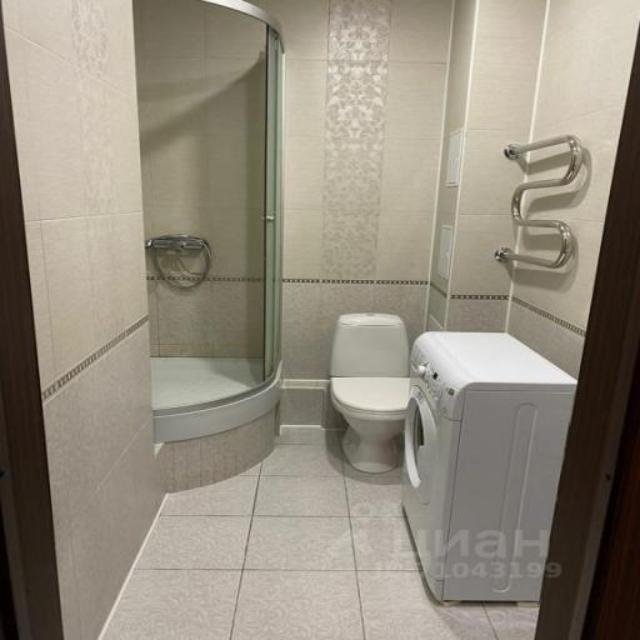Washing-Machine: (404, 332, 580, 604)
